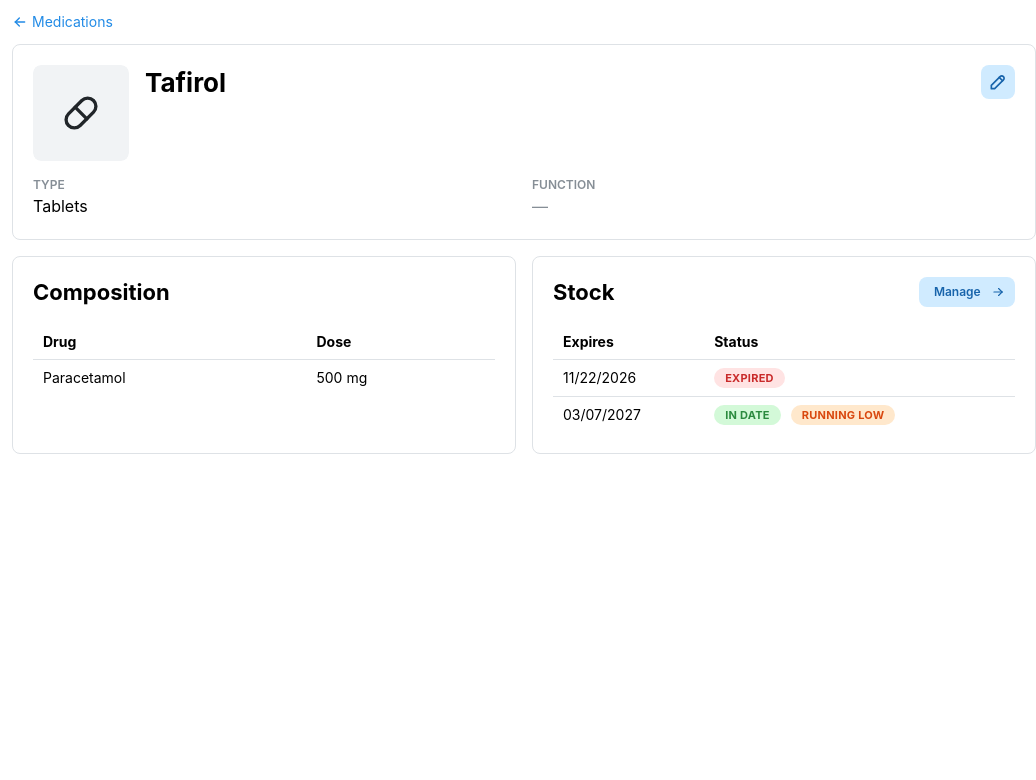
MedicationDetailPage › edits the medication
Click the button named "Edit".
click(998, 82)  # box [981,65,1015,99]
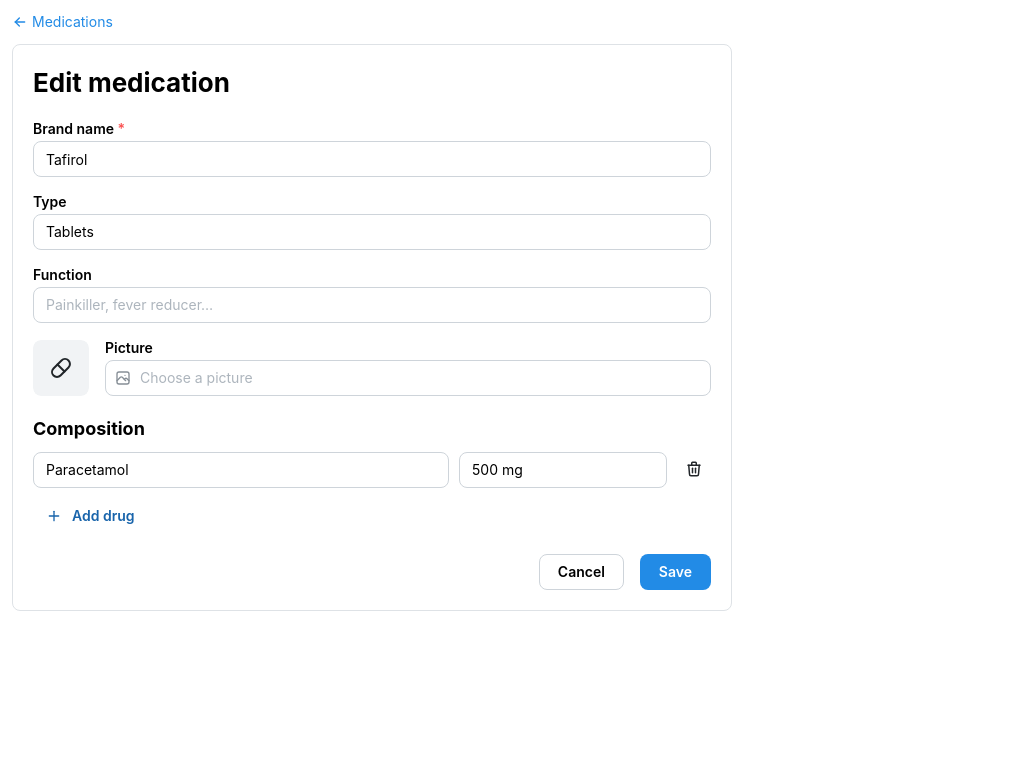
Replace the text in the field labelled "Brand name *" with "Tafirol Forte" at point(372, 159), box [33,141,711,177]
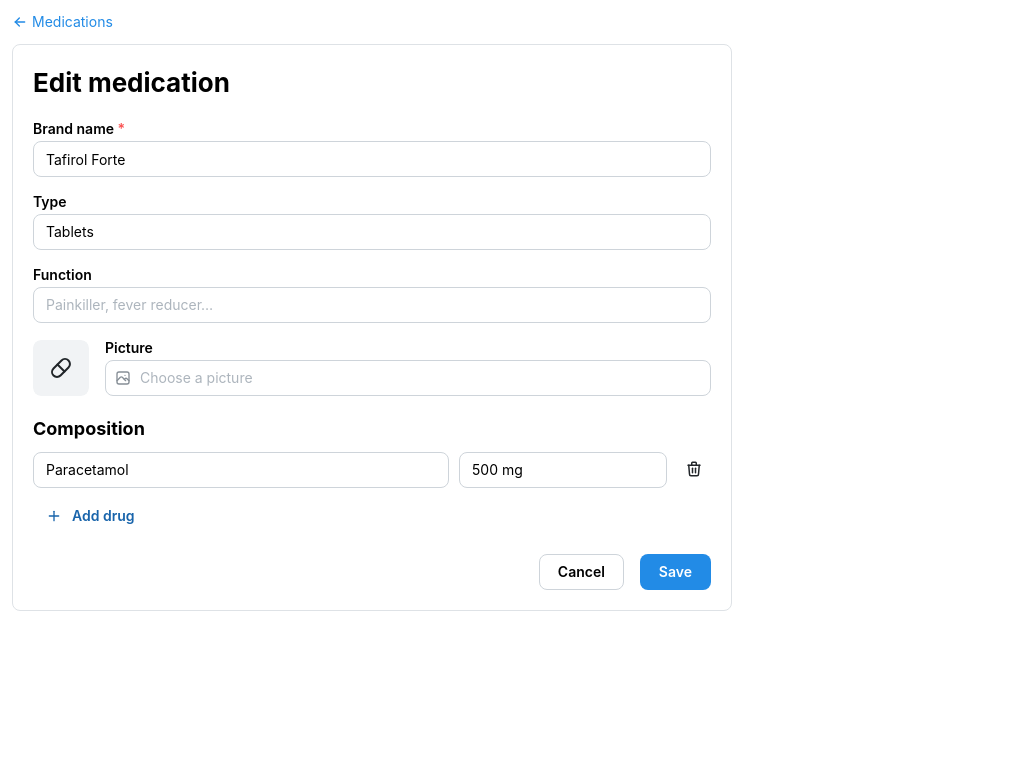
Click the button "Save".
click(675, 572)  # box [640,554,711,590]
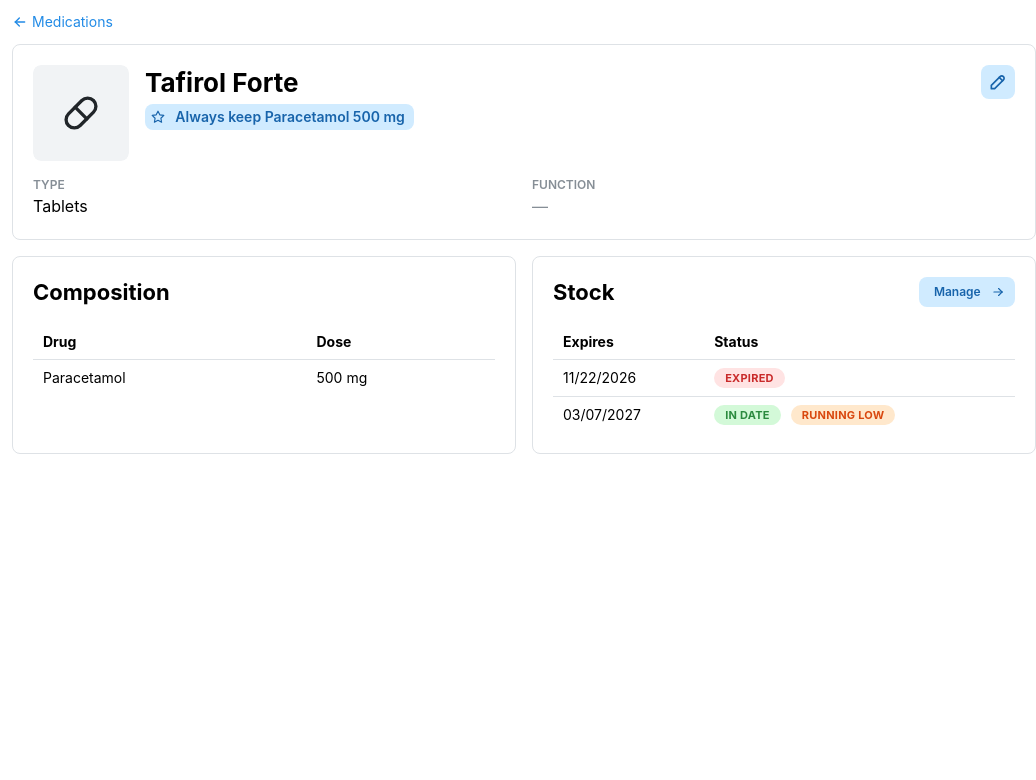
Now the heading "Tafirol Forte" is shown, box [145,67,299,98]
